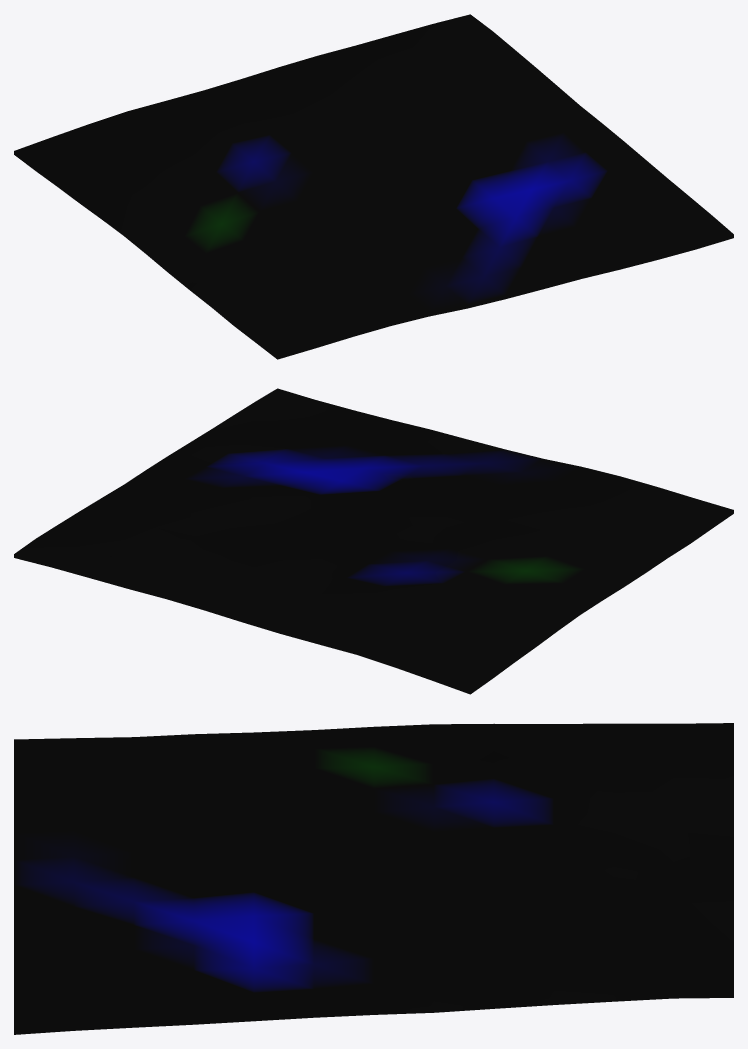
File: coast_2_4.glb
3 renders of one model, top to bottom at view 1: azimuth 30°, elevation 25°; view 2: azimuth 150°, elevation 25°; view 3: azimuth 270°, elevation 25°, orthographic. The views are drawn at different scales.
Visible parts, largest first — view 1: terrain; view 2: terrain; view 3: terrain.
Boxes of the visible parts, left/top/right/bottom form: terrain: left=14, top=14, right=733, bottom=359; terrain: left=14, top=388, right=733, bottom=694; terrain: left=14, top=723, right=733, bottom=1034.
Bounding box in the file's own units: 192 × 16.49 × 192.
